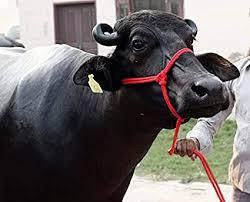cow: (0, 10, 234, 202)
